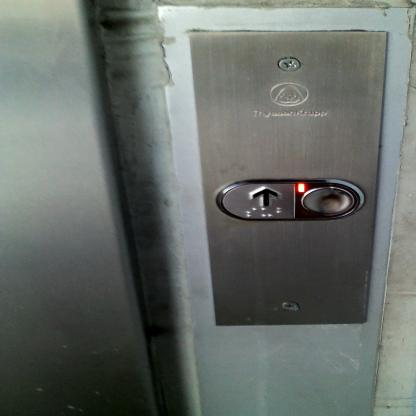up: (211, 176, 366, 223)
